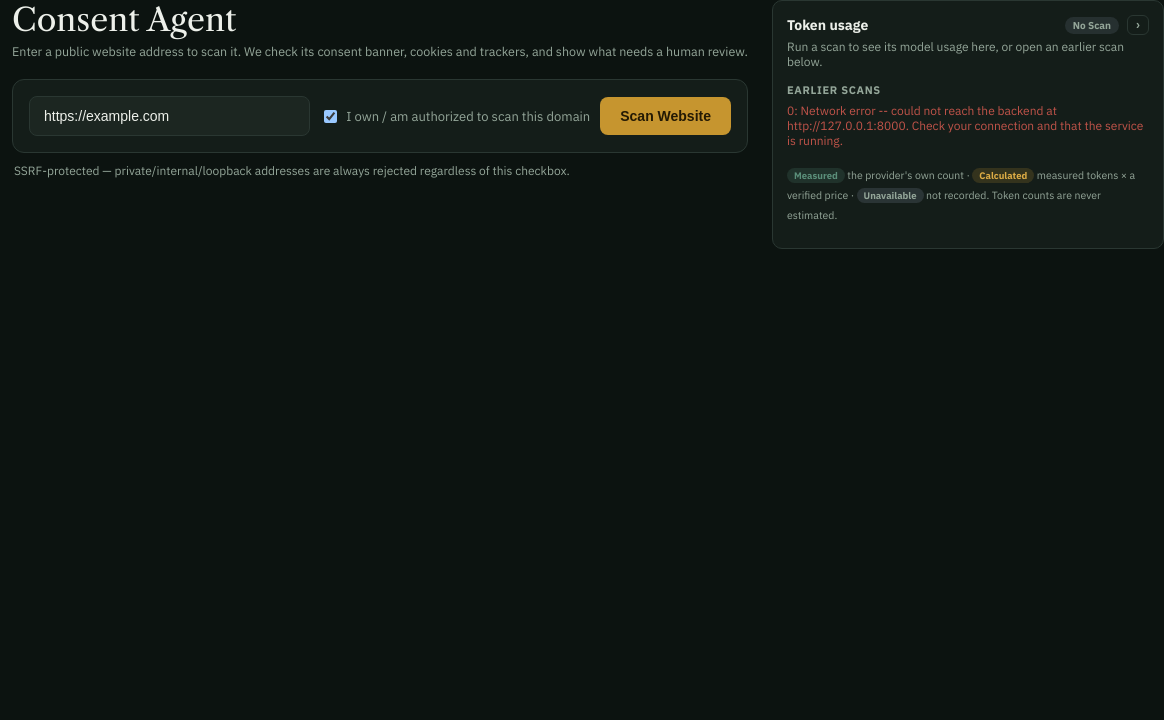
a failed scan that collected nothing is not shown as a clean result › says it was not scanned, names the failing stage, and shows no zero counts or 'none detected'
The image size is (1164, 720).
In the field with placeholder "https://example.com": (170, 116) x1=29 y1=96 x2=310 y2=136, type "https://smartians.ai/"
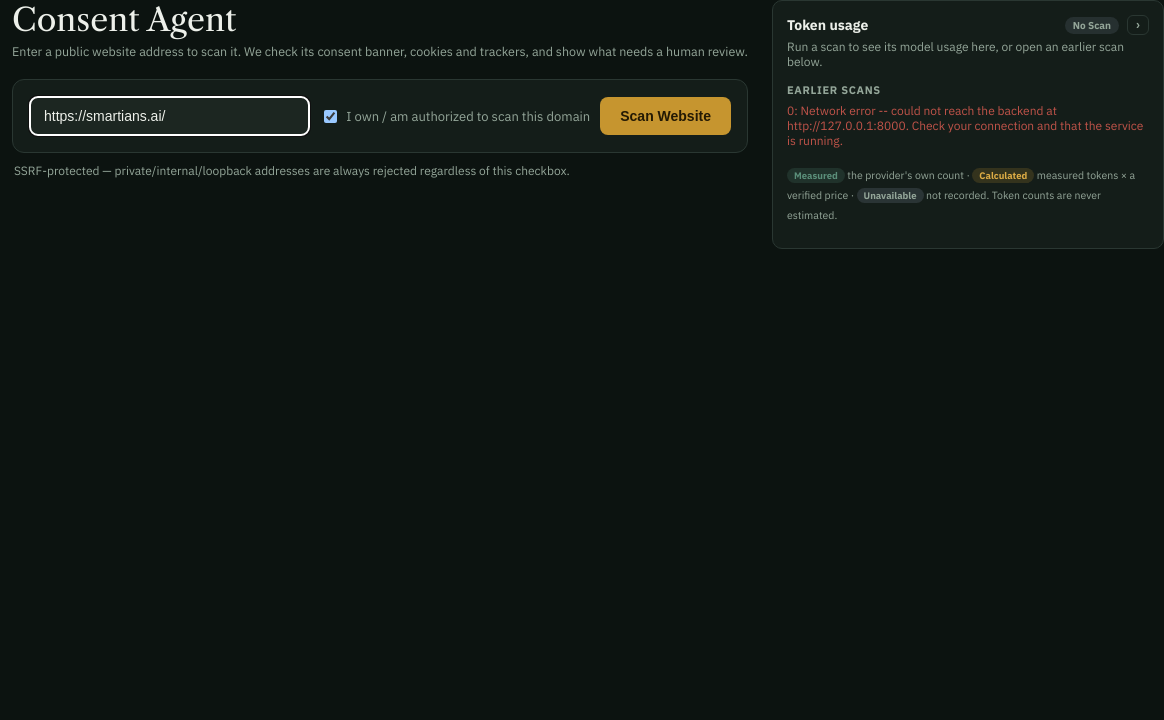
Click the button "Scan Website": (666, 116) x1=600 y1=97 x2=731 y2=135
(page scrolled)
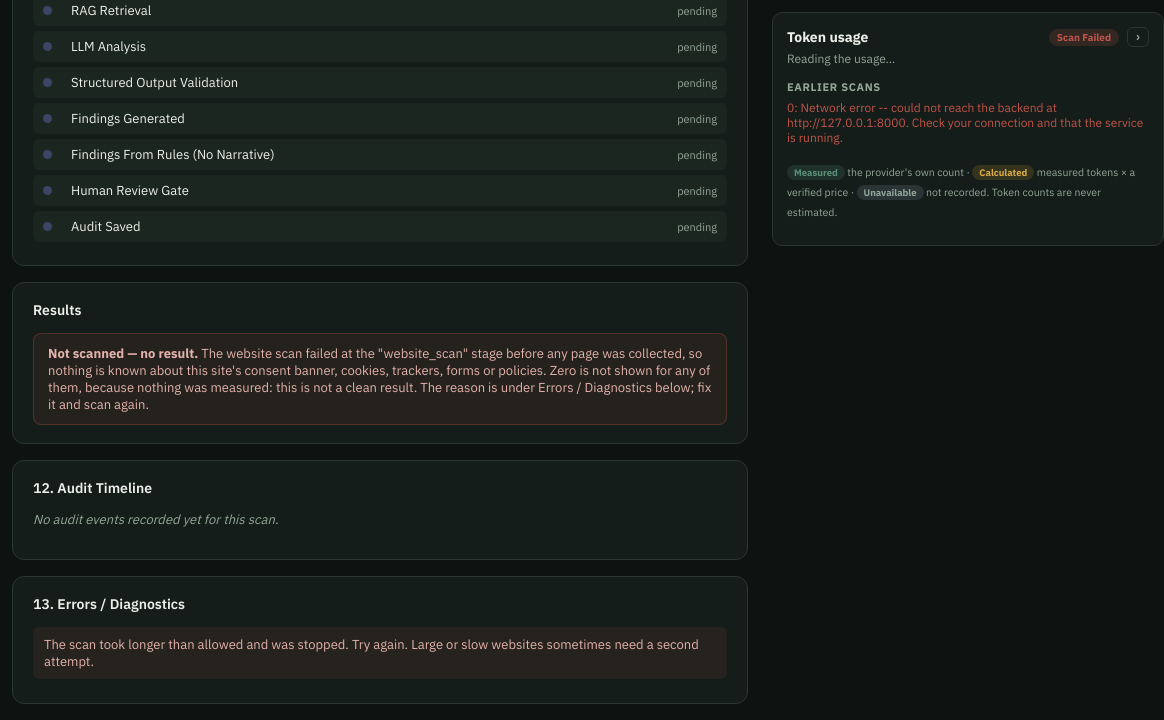
Result: the element with test id "not-scanned" shows "Not scanned — no result" at x1=48 y1=345 x2=198 y2=362
Result: the element with test id "not-scanned" shows "failed at the \"website_scan\" stage" at x1=12 y1=282 x2=748 y2=444
Result: the element with test id "not-scanned" shows "this is not a clean result" at x1=48 y1=345 x2=711 y2=413
